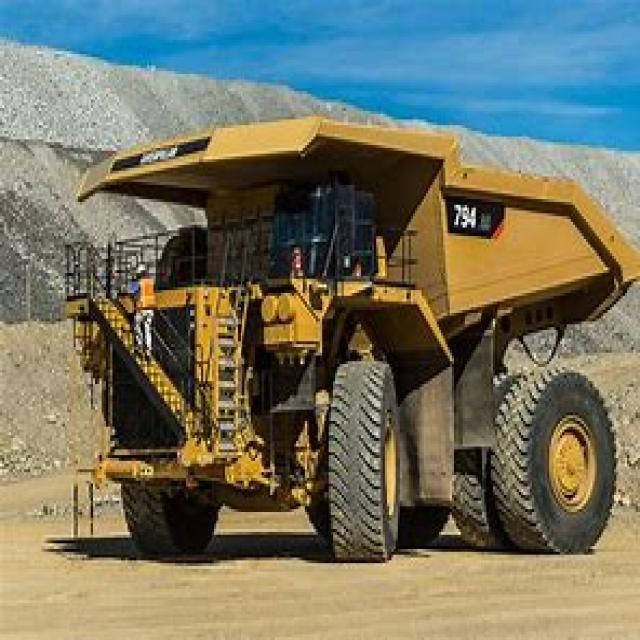dump_truck: (52, 114, 636, 569)
